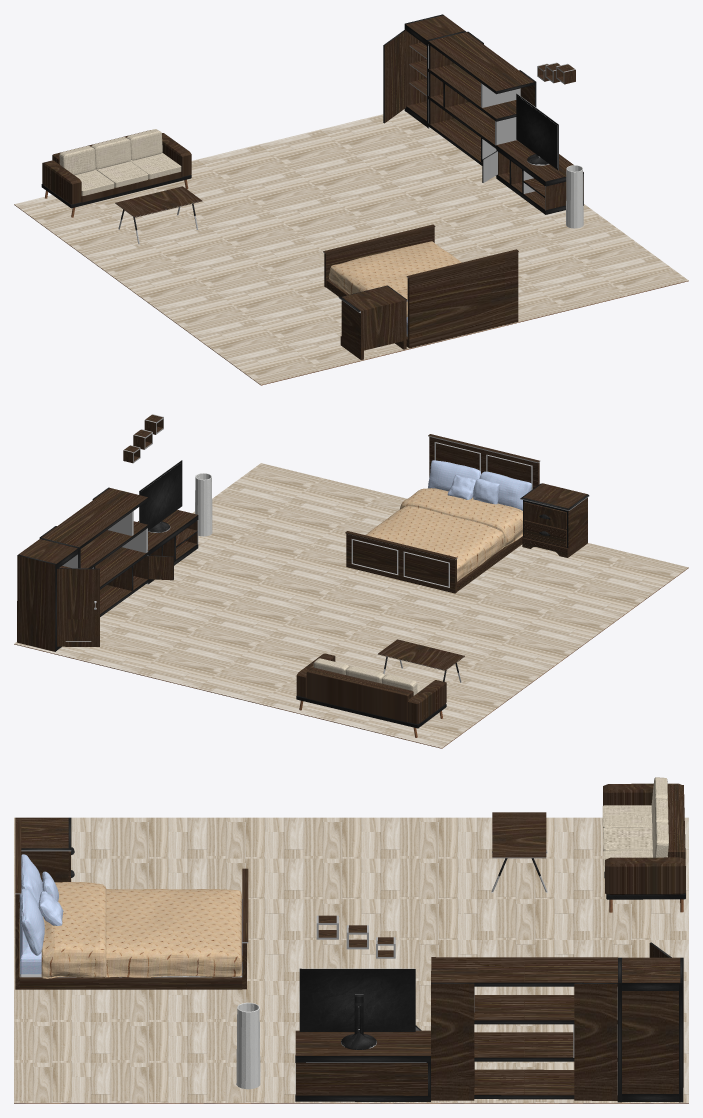
File: T1 Set 2 Pos 8.glb
3 renders of one model, top to bottom at view 1: azimuth 30°, elevation 25°; view 2: azimuth 150°, elevation 25°; view 3: azimuth 270°, elevation 25°, orthographic. The views are drawn at different scales.
Size of the model in its own units: 0.2923 by 0.0855 by 0.292.
Materials: 10 (9 with a texture image).
